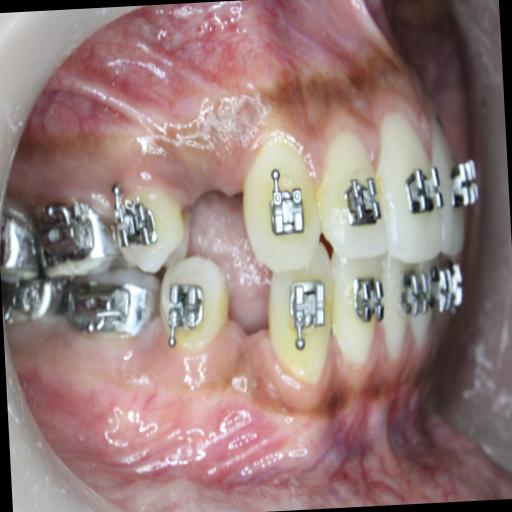correct_brace: (113, 163, 192, 280), (342, 170, 384, 236), (265, 180, 308, 238), (404, 158, 446, 217)
incorrect_brace: (318, 127, 386, 264), (112, 194, 158, 252)
